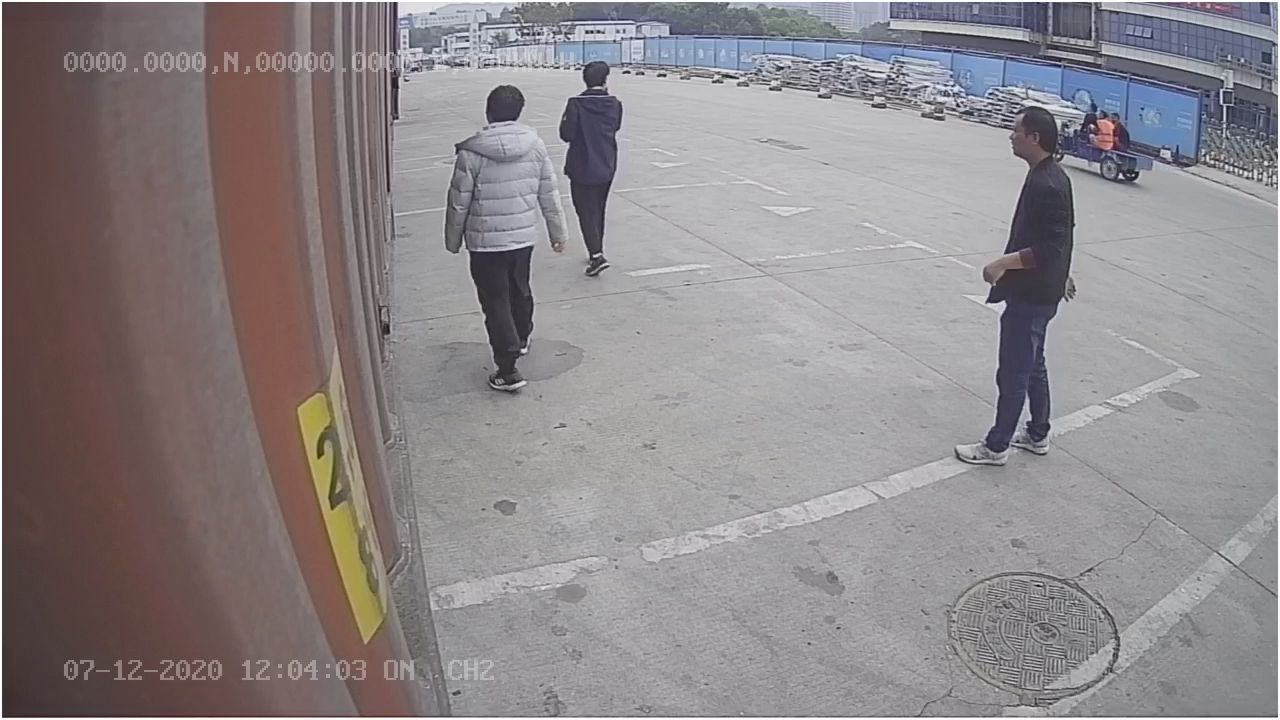person: (952, 105, 1077, 466), (440, 83, 568, 394)
